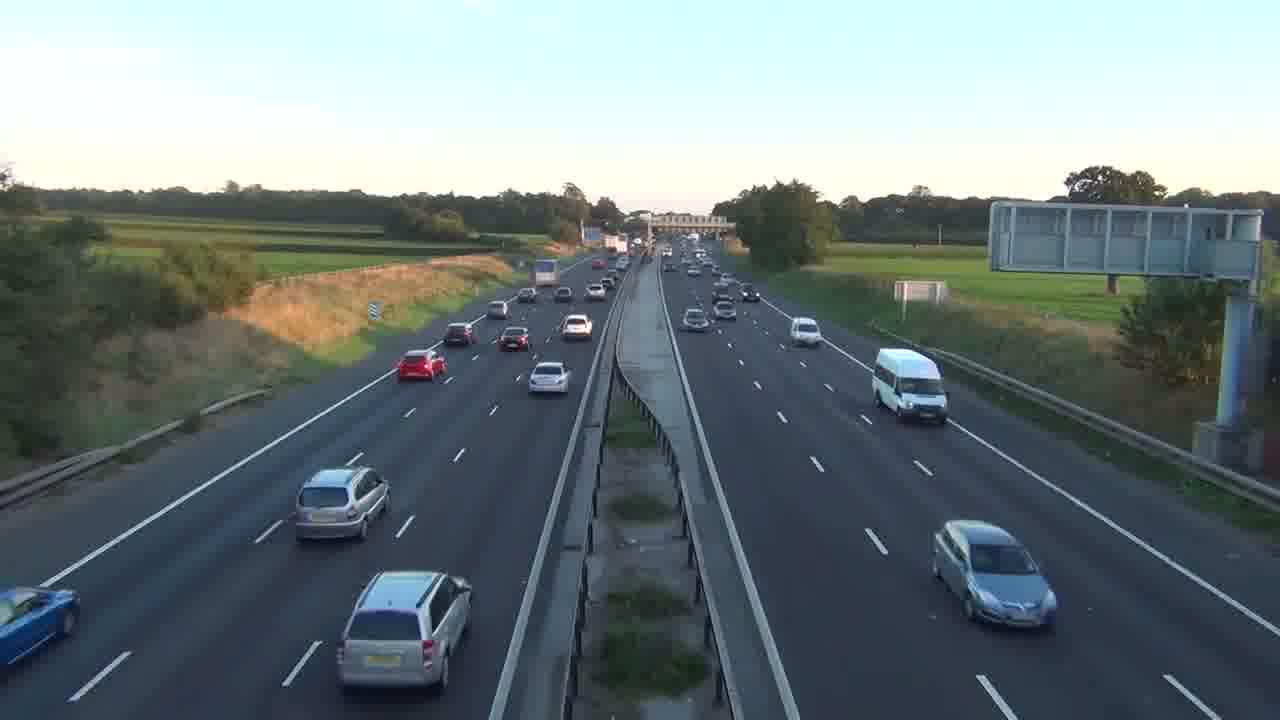car: (335, 568, 473, 694), (929, 518, 1059, 630), (292, 466, 391, 542), (0, 584, 81, 669), (396, 348, 450, 384), (527, 361, 571, 396), (495, 325, 530, 352), (560, 313, 593, 341), (681, 306, 711, 331), (445, 322, 475, 346)
truck: (871, 346, 948, 425)
